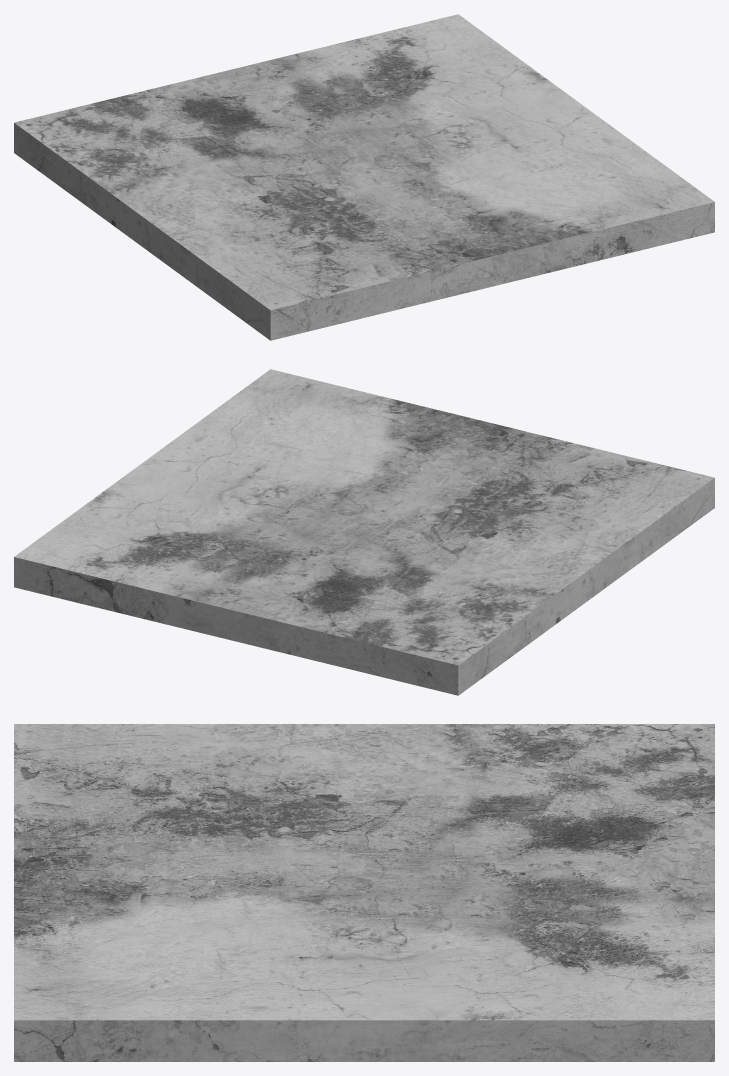
File: плита.fbx
3 renders of one model, top to bottom at view 1: azimuth 30°, elevation 25°; view 2: azimuth 150°, elevation 25°; view 3: azimuth 270°, elevation 25°, orthographic. The views are drawn at different scales.
Parts seen in each view (by area): view 1: Cube; view 2: Cube; view 3: Cube.
Part boxes in pixels (x1,y1,x2,y2): Cube: (14, 14, 714, 340); Cube: (14, 369, 714, 695); Cube: (14, 724, 714, 1061).
Bounding box in the file's own units: 200 × 13.06 × 200.
